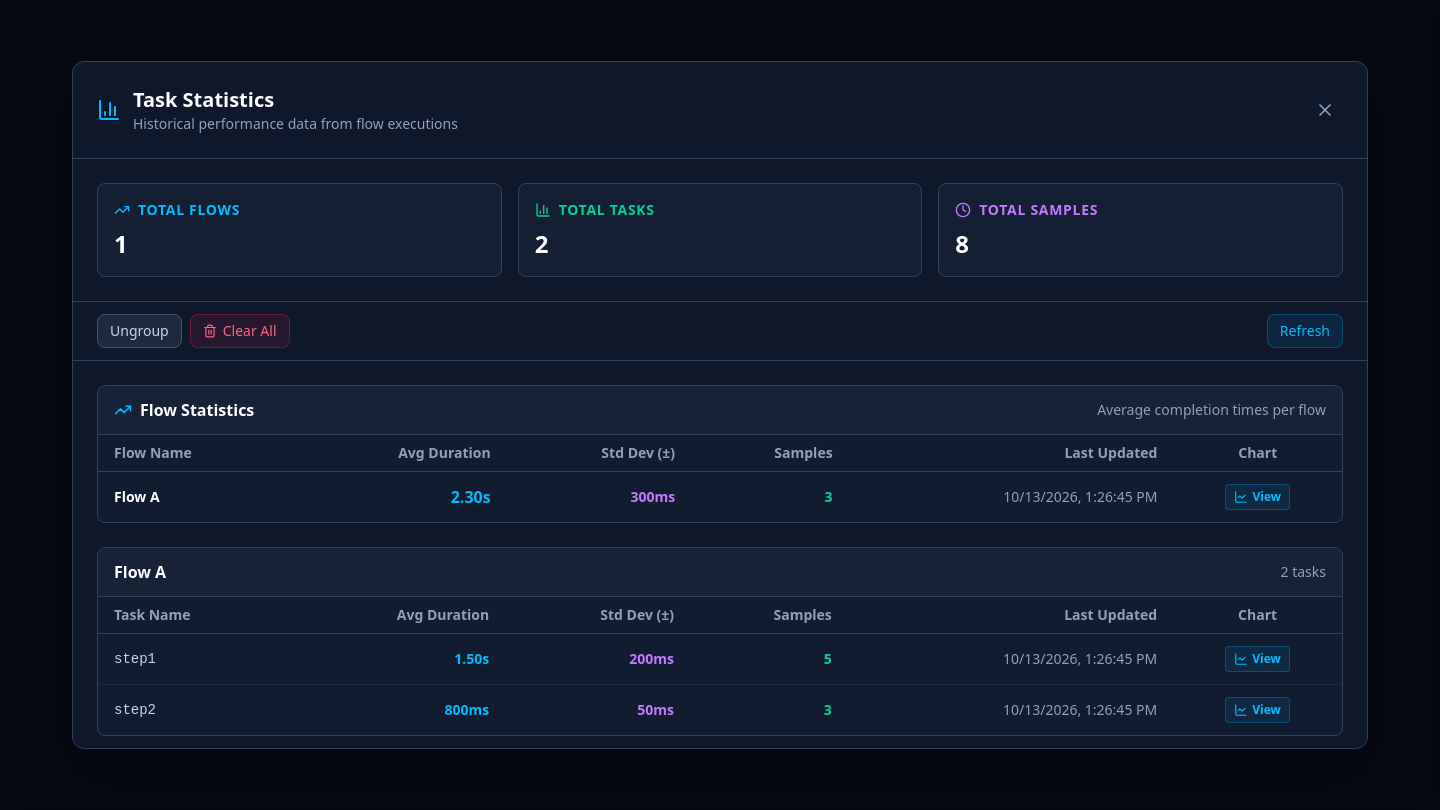
Test case: StatisticsWindow › Clear All opens confirm dialog
Click the button "Clear All" at (240, 331), box 190,314 -> 290,348
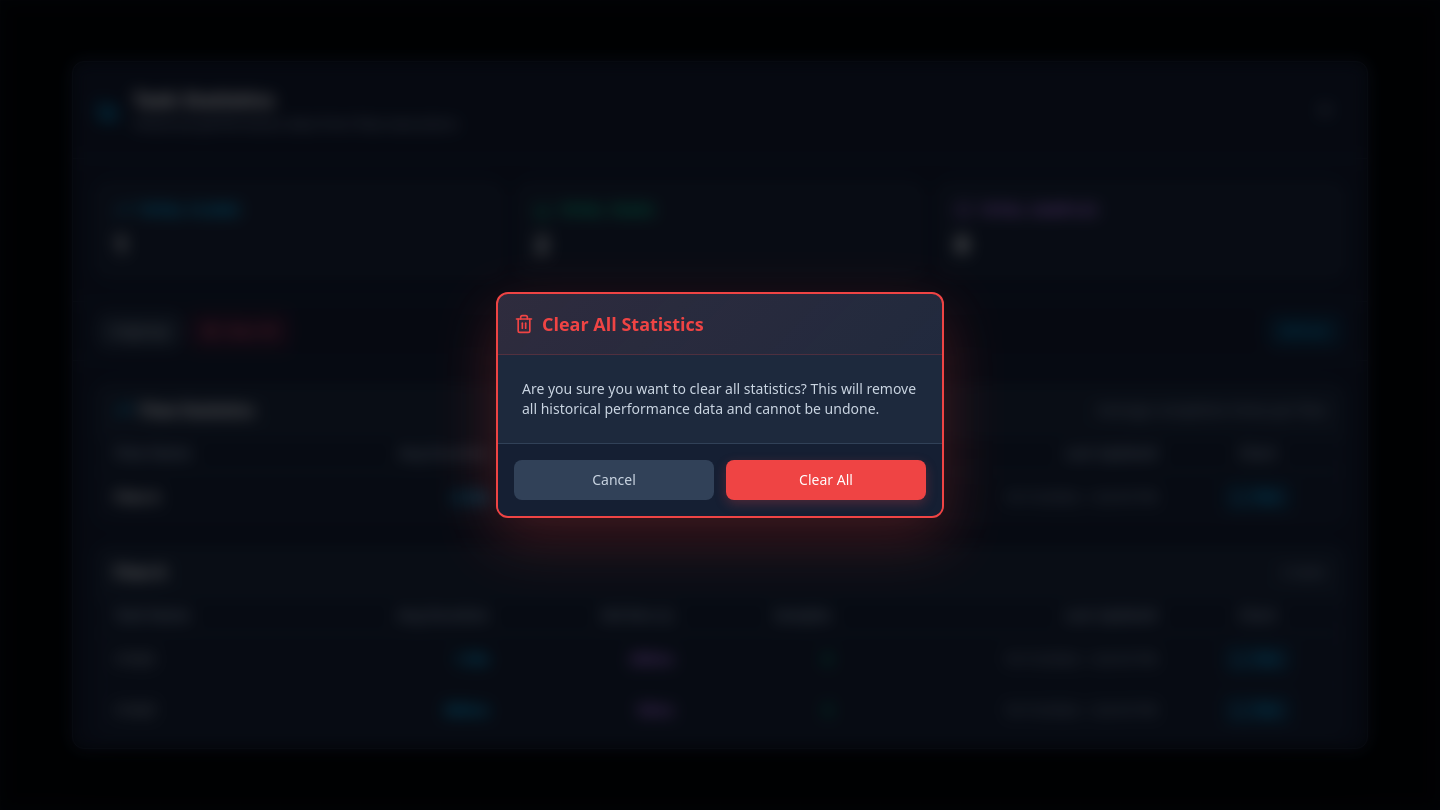
Expected: the heading "Clear All Statistics" is shown, 514,312 -> 704,336
